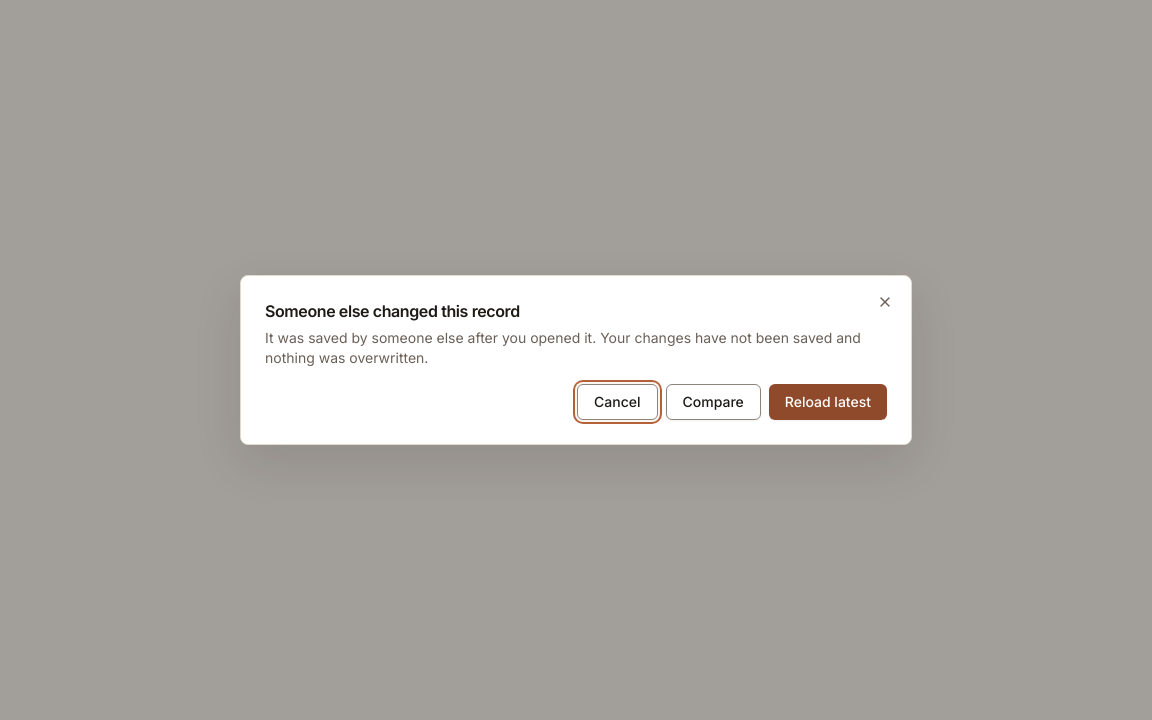
Test: VersionConflictDialog › compares every submitted field, even one the caller did not label
Click the button "Compare". click: coordinates (713, 402)
box: [666,384,761,420]
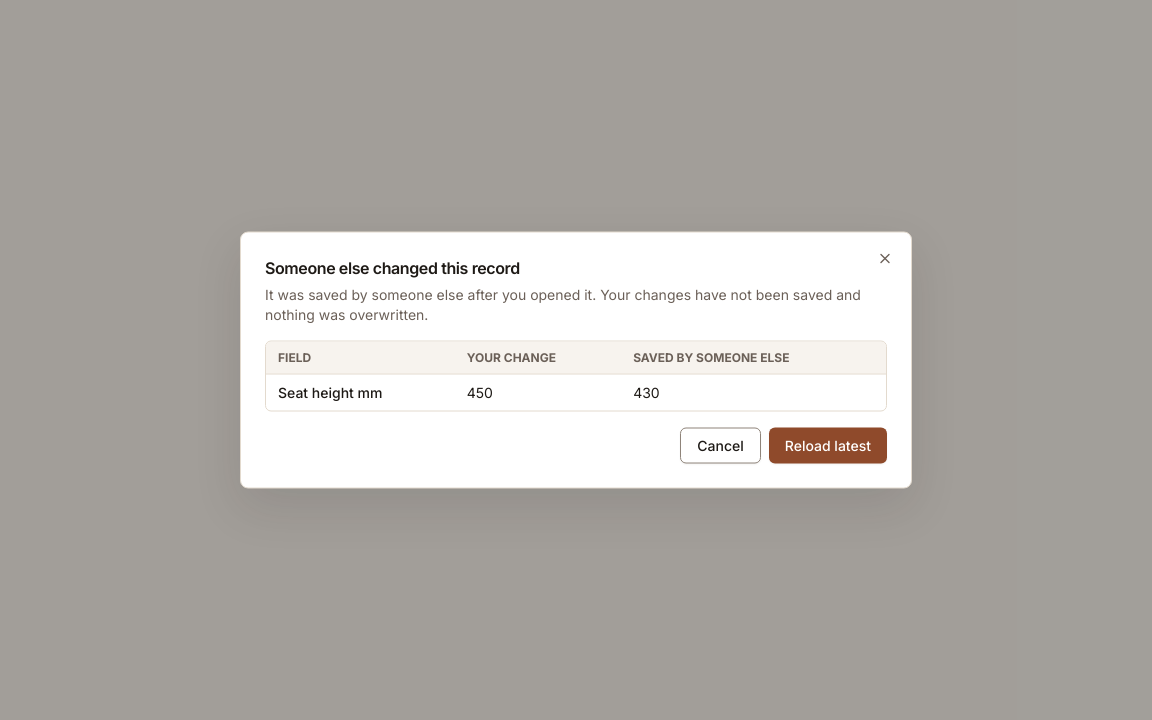
expect the column heading "Seat height mm" is shown: met, box [266,374,455,410]
expect the text "450" is shown: met, box [455,374,621,410]
